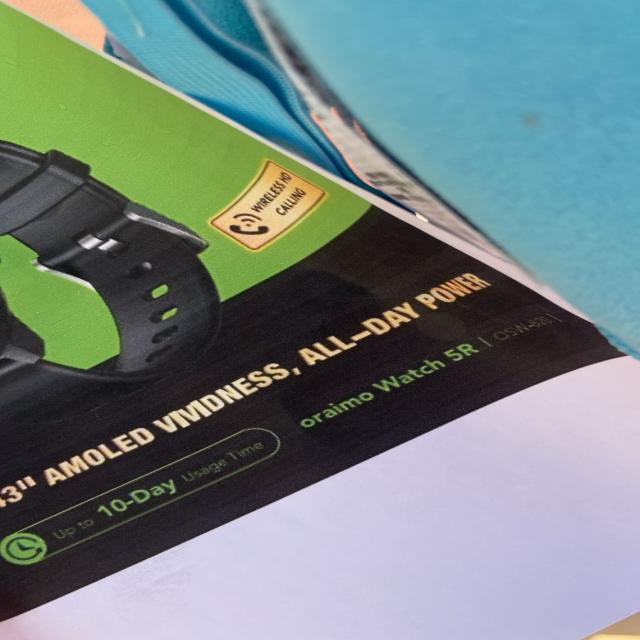Oraimo Watch 5R OSW-820: (289, 309, 567, 436)
